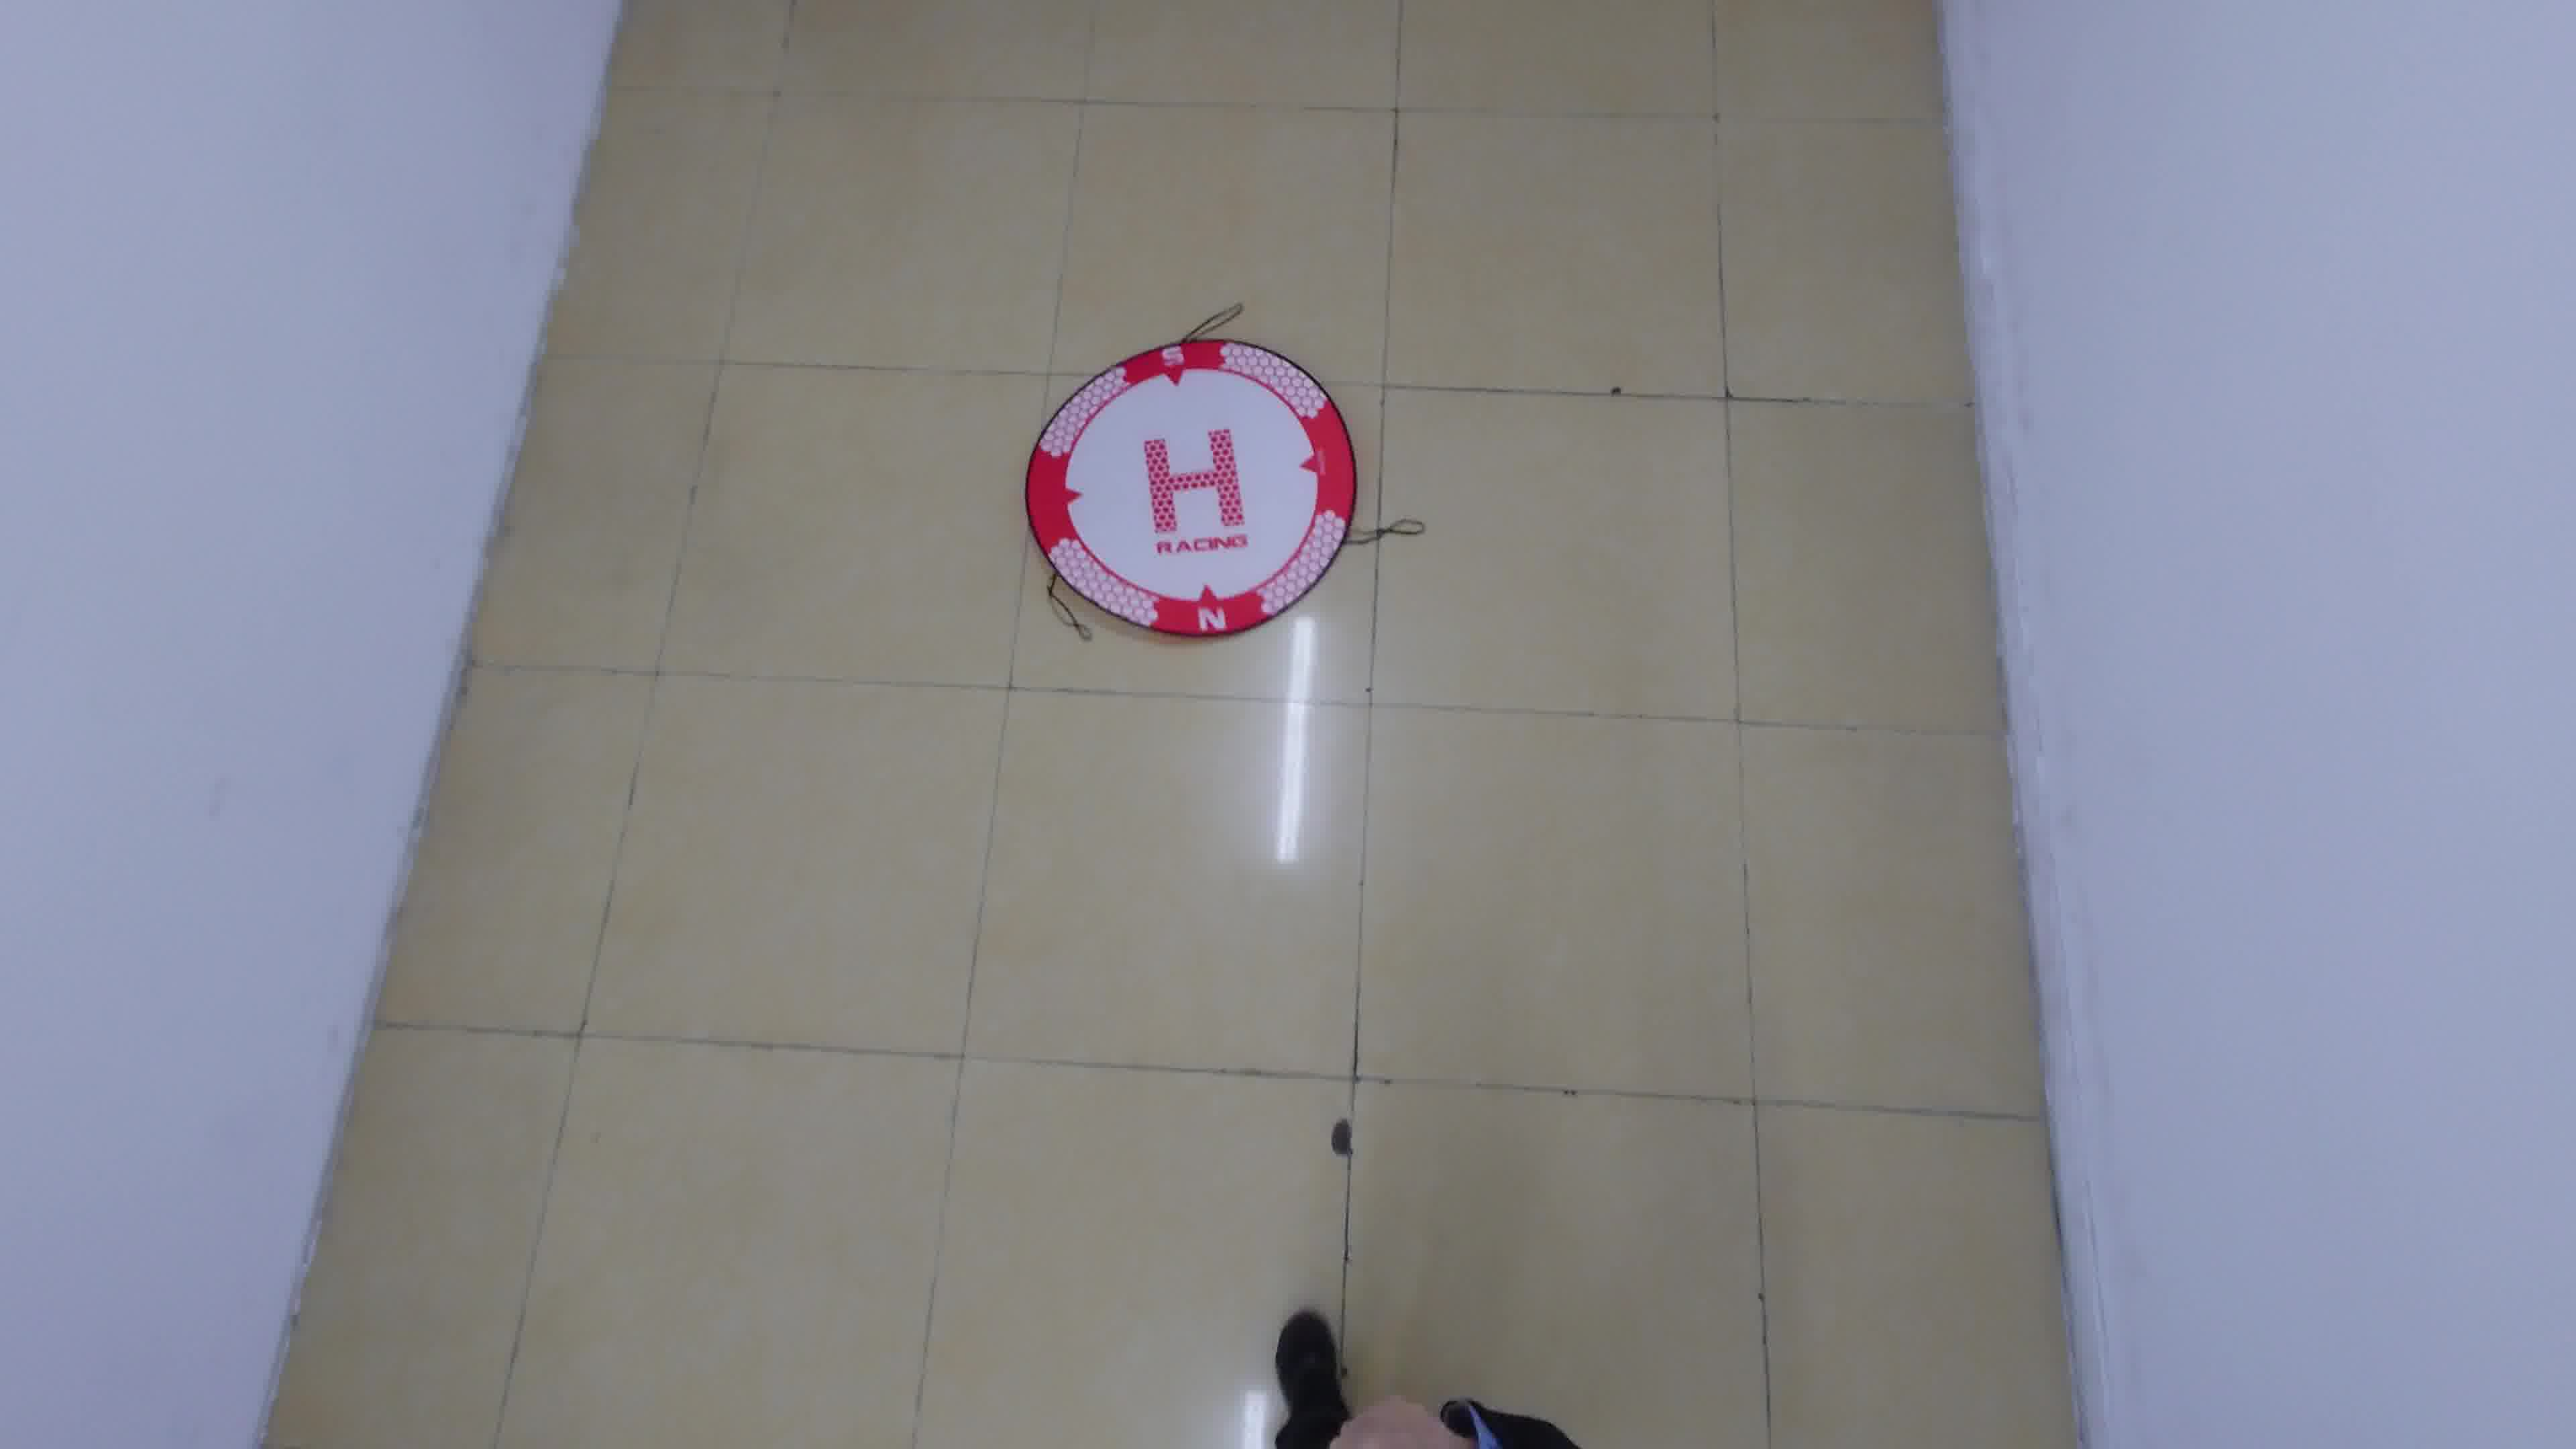H: (1143, 428, 1247, 534)
